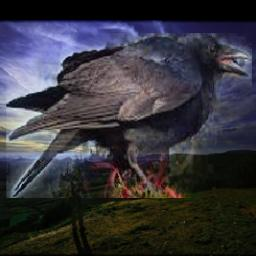Crow: (7, 34, 253, 199)
